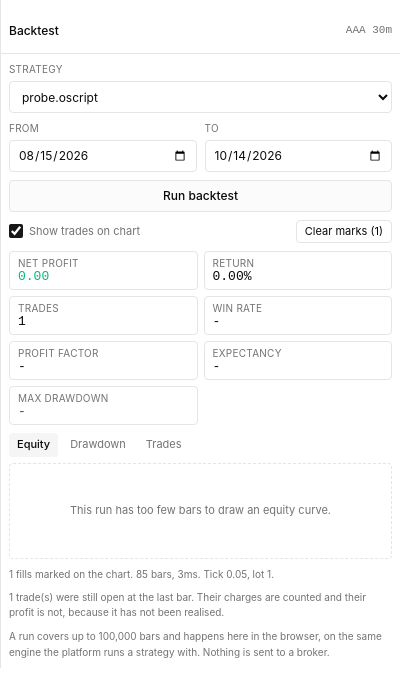
Test: the marks a run puts on the chart › ties the marks to the strategy, and clears them from the button
What coordinates should you click on to do the following:
click the button "Clear marks (1)"
I would click on:
 (344, 231)
Its box is x1=296 y1=220 x2=392 y2=242.
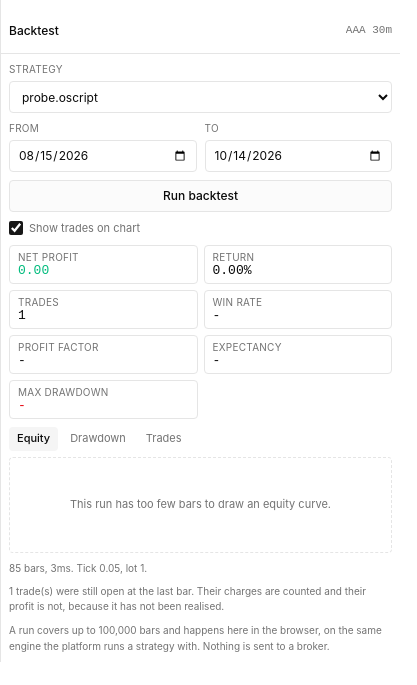
Expected: the button "Clear marks" is gone
